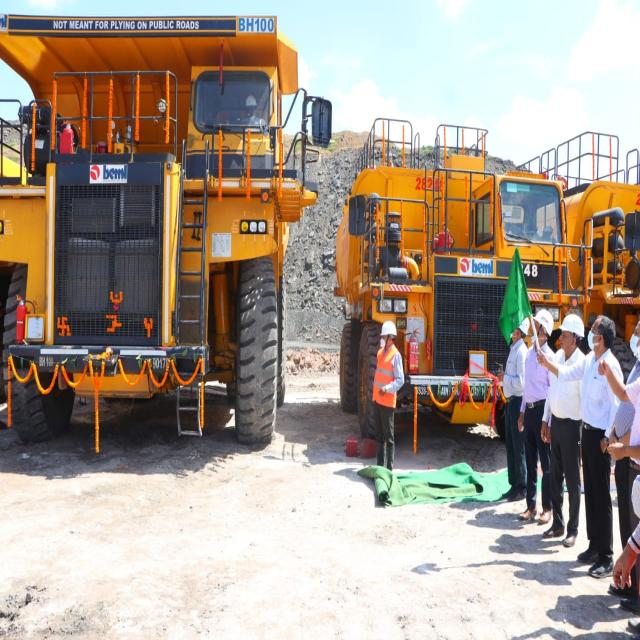dump_truck: (0, 10, 330, 443), (332, 117, 570, 437), (568, 123, 640, 315)
